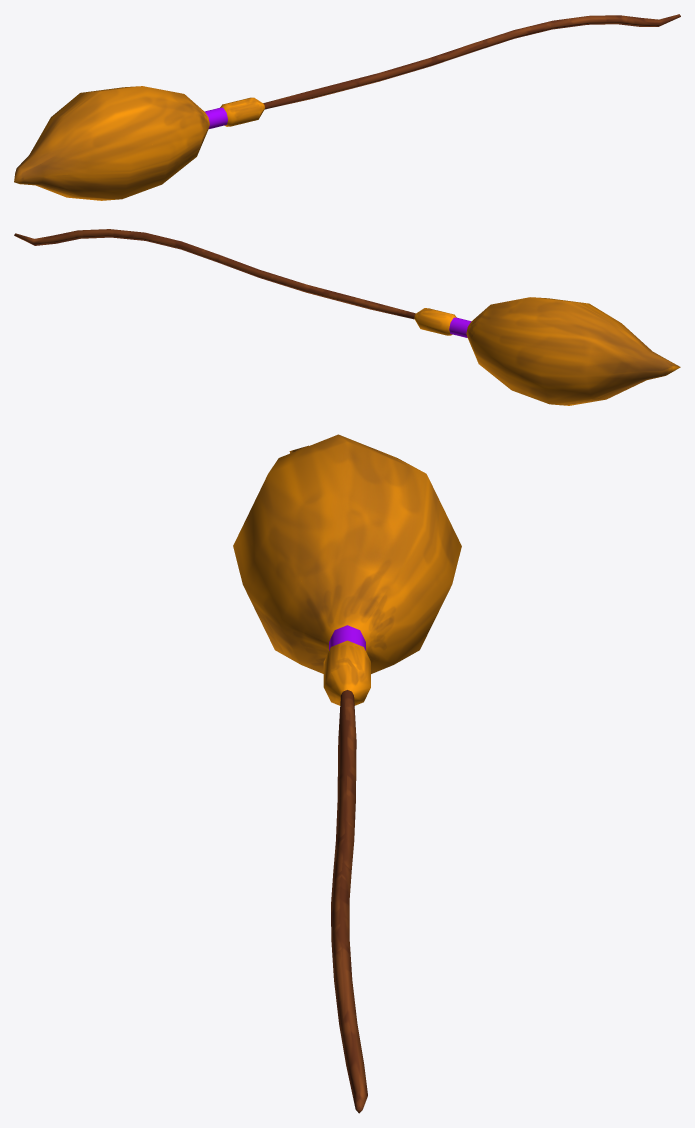
File: broom.fbx
3 views of the same model, one above another, from view 1: azimuth 30°, elevation 25°; view 2: azimuth 150°, elevation 25°; view 3: azimuth 270°, elevation 25° (orthographic). The views are drawn at different scales.
Visible parts, largest first — view 1: broom3; view 2: broom3; view 3: broom3.
Boxes of the visible parts, x1,y1,x2,y2 form: broom3: [14, 14, 680, 200]; broom3: [14, 229, 680, 405]; broom3: [233, 434, 461, 1113].
Bounding box in the file's own units: 653 × 99.63 × 99.63.
